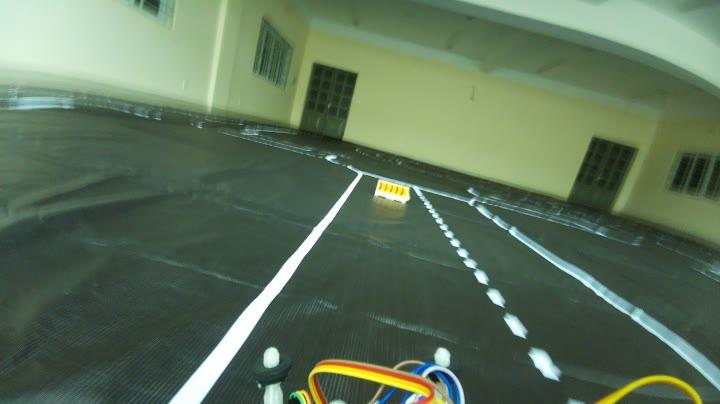roadblock: (371, 172, 413, 212)
